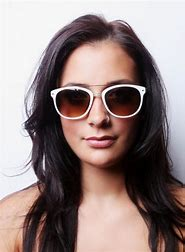person: (28, 13, 166, 168)
